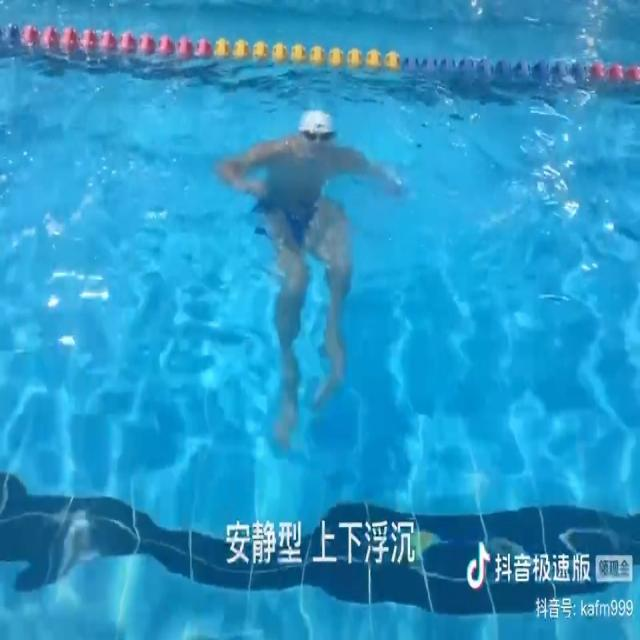Drowning: (217, 104, 406, 432)
